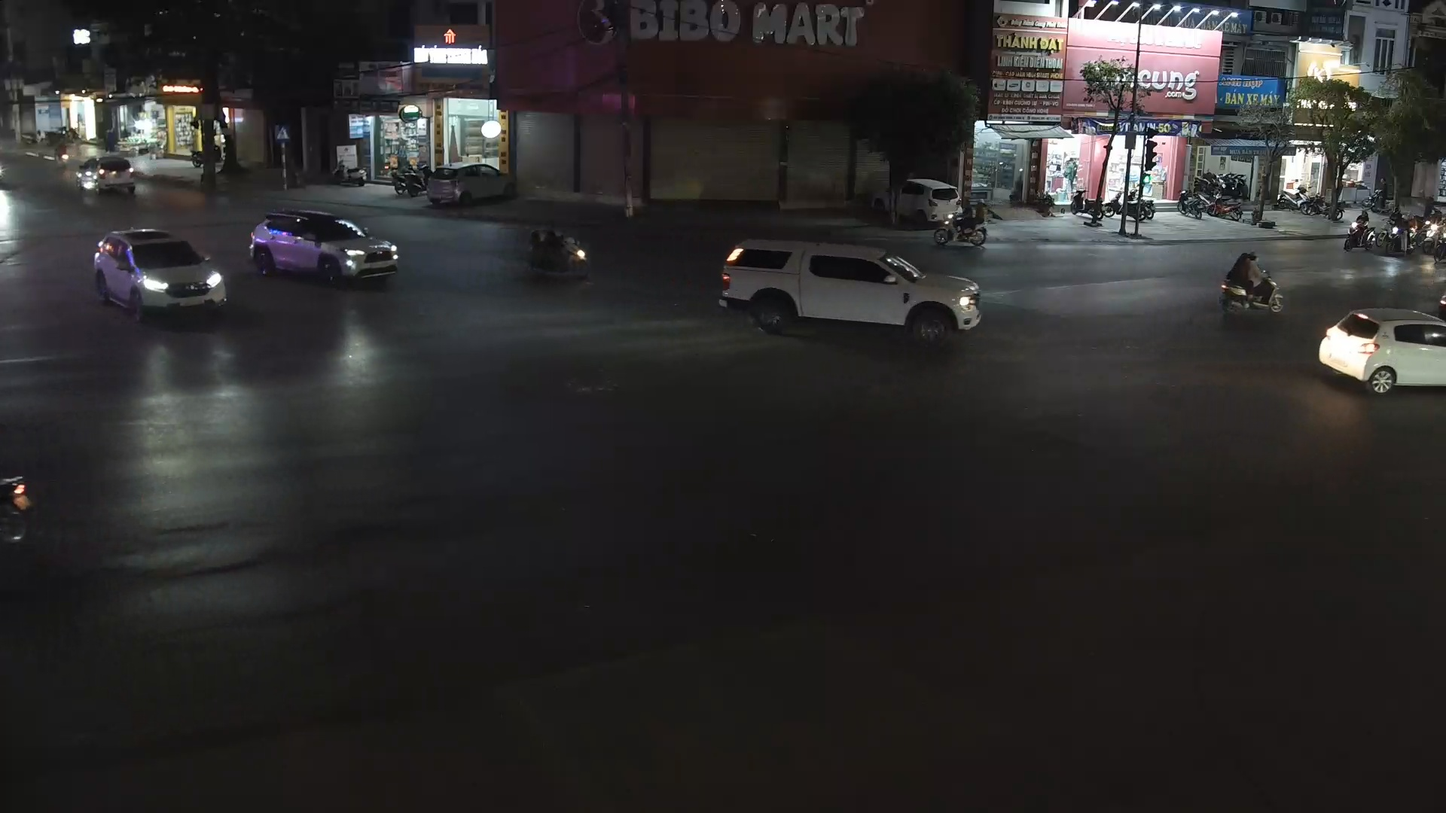car: (717, 239, 983, 342), (93, 226, 230, 325), (248, 209, 401, 289), (1316, 302, 1445, 396), (523, 225, 593, 286)
motorbike: (1216, 249, 1287, 325), (521, 224, 593, 286)
